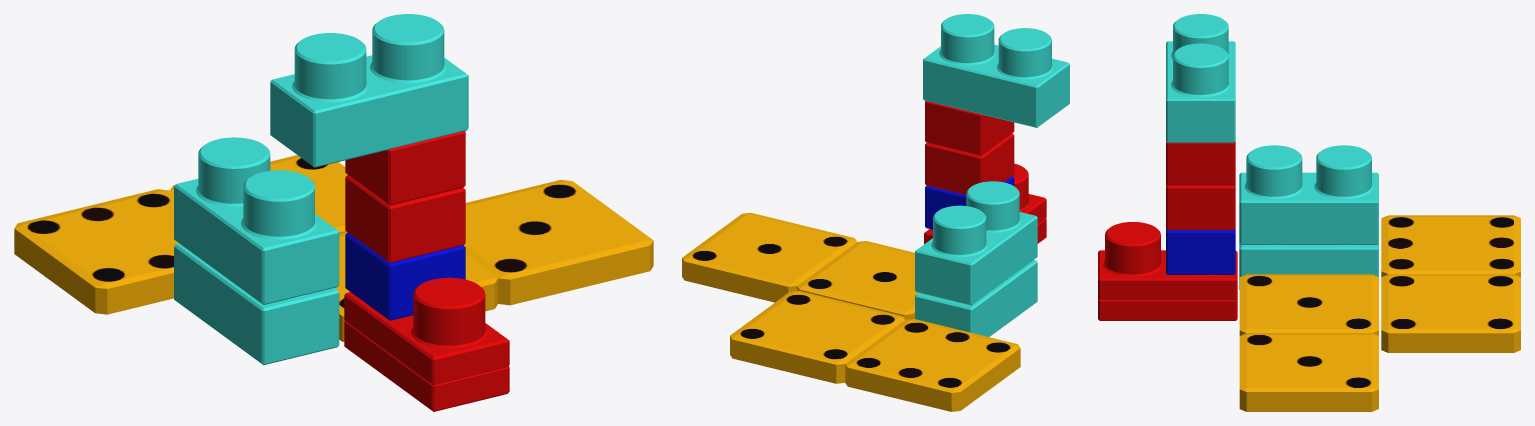
The picture shows the model from 3 angles, left to right: view 1: azimuth 30°, elevation 25°; view 2: azimuth 150°, elevation 25°; view 3: azimuth 270°, elevation 25°; orthographic projection. The views are drawn at different scales.
Parts seen in each view (by area): view 1: Cube.037, Cube.036, Dom.111_low_0.001, Dom.303_low_0.001, Cube.034, Cube.032, Cube.035, Cube.033, Cube.031; view 2: Dom.303_low_0.001, Dom.111_low_0.001, Cube.037, Cube.036, Cube.034, Cube.035, Cube.032, Cube.033; view 3: Dom.303_low_0.001, Dom.111_low_0.001, Cube.036, Cube.037, Cube.032, Cube.034, Cube.035, Cube.031, Cube.033.
Part boxes in pixels (bbox=[...]): Cube.037: bbox=[270, 14, 468, 167]; Cube.036: bbox=[174, 137, 339, 304]; Dom.111_low_0.001: bbox=[335, 180, 653, 341]; Dom.303_low_0.001: bbox=[14, 155, 347, 314]; Cube.034: bbox=[345, 131, 465, 262]; Cube.032: bbox=[344, 277, 509, 384]; Cube.035: bbox=[174, 243, 339, 365]; Cube.033: bbox=[345, 232, 465, 320]; Cube.031: bbox=[344, 321, 509, 411]; Dom.303_low_0.001: bbox=[730, 290, 1020, 411]; Dom.111_low_0.001: bbox=[682, 213, 918, 319]; Cube.037: bbox=[923, 14, 1069, 127]; Cube.036: bbox=[915, 181, 1037, 305]; Cube.034: bbox=[925, 101, 1014, 194]; Cube.035: bbox=[915, 260, 1037, 336]; Cube.032: bbox=[924, 163, 1046, 244]; Cube.033: bbox=[925, 176, 1014, 229]; Dom.303_low_0.001: bbox=[1381, 215, 1520, 352]; Dom.111_low_0.001: bbox=[1239, 274, 1378, 411]; Cube.036: bbox=[1239, 145, 1378, 244]; Cube.037: bbox=[1166, 14, 1235, 142]; Cube.032: bbox=[1098, 222, 1237, 299]; Cube.034: bbox=[1166, 142, 1235, 230]; Cube.035: bbox=[1239, 243, 1378, 289]; Cube.031: bbox=[1098, 256, 1237, 320]; Cube.033: bbox=[1166, 229, 1235, 274].
Size of the model in its own units: 6 by 4.03 by 6.06.
Materials: 6 (3 with a texture image).
